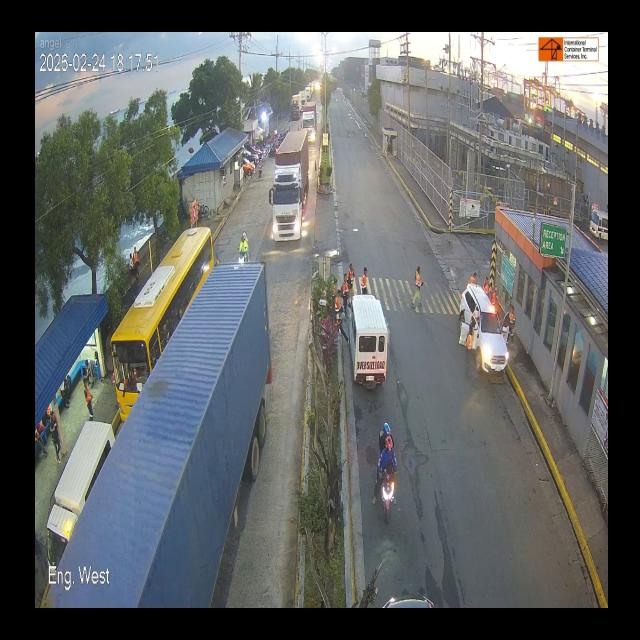bus: (106, 223, 212, 411)
car: (462, 282, 516, 378), (346, 300, 395, 394)
truck: (50, 250, 282, 611), (266, 126, 310, 239), (298, 100, 322, 142)
